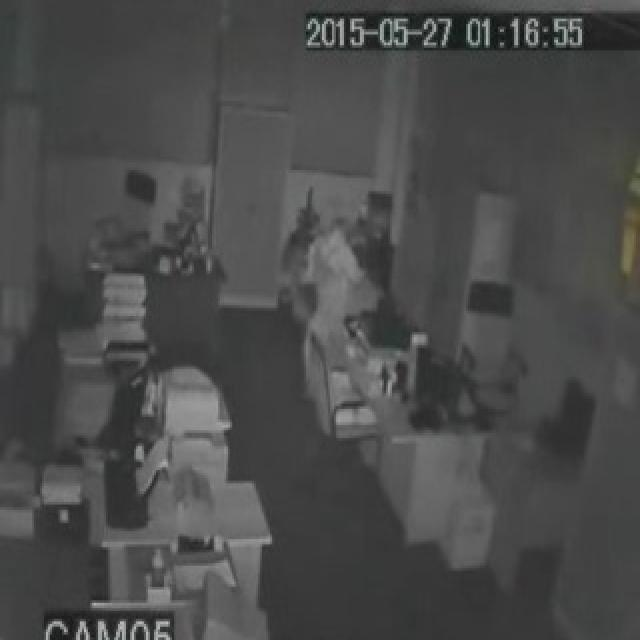thief: (301, 202, 361, 328)
